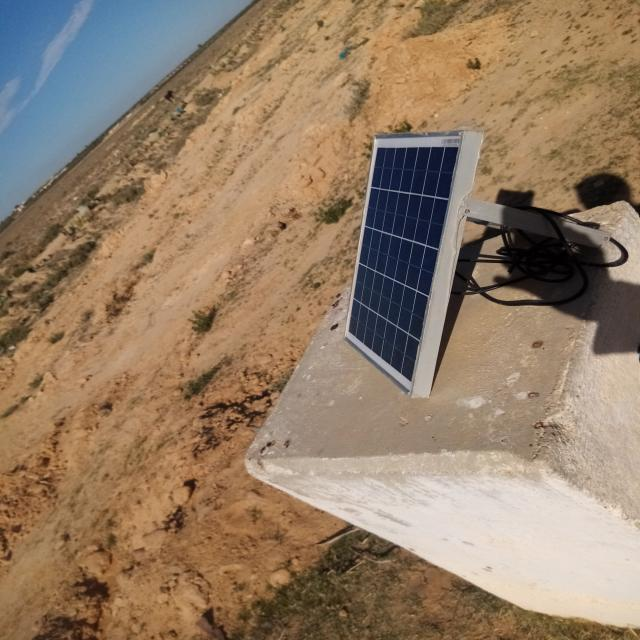no faulty: (345, 131, 464, 395)
